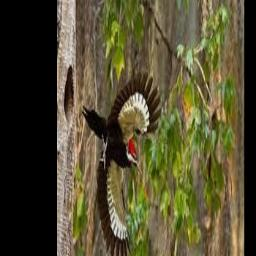Woodpecker: (82, 69, 164, 256)
